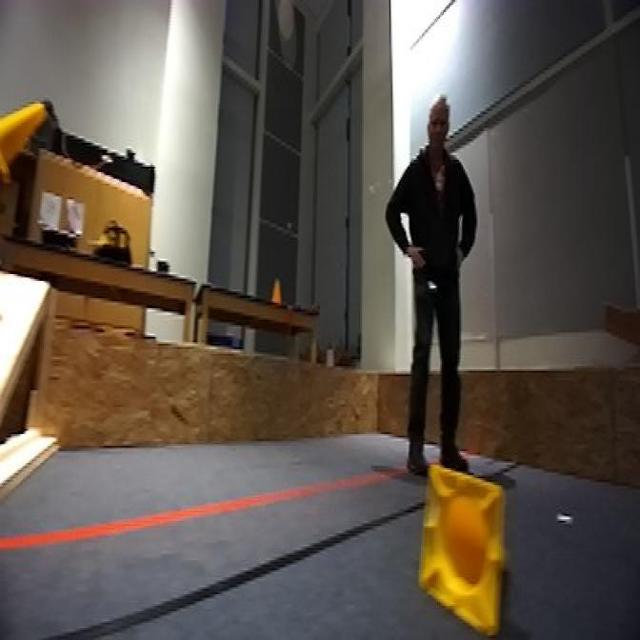frc_cone: (417, 466, 512, 630), (0, 90, 47, 179)
